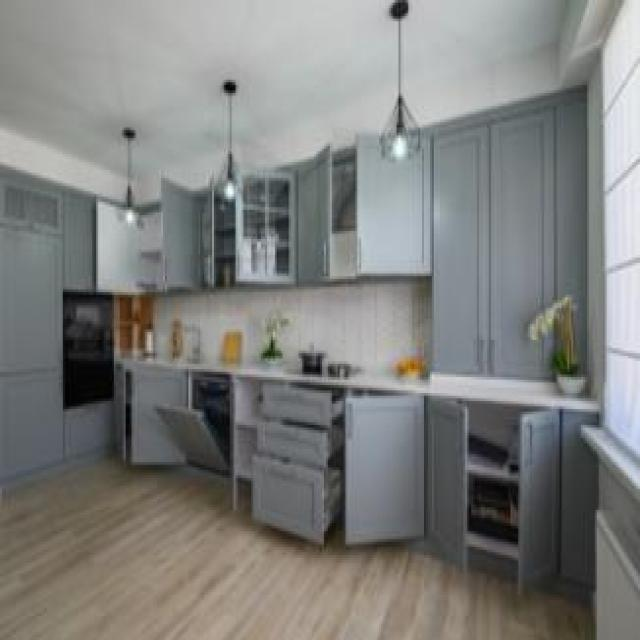dishwasher: (151, 367, 228, 472)
